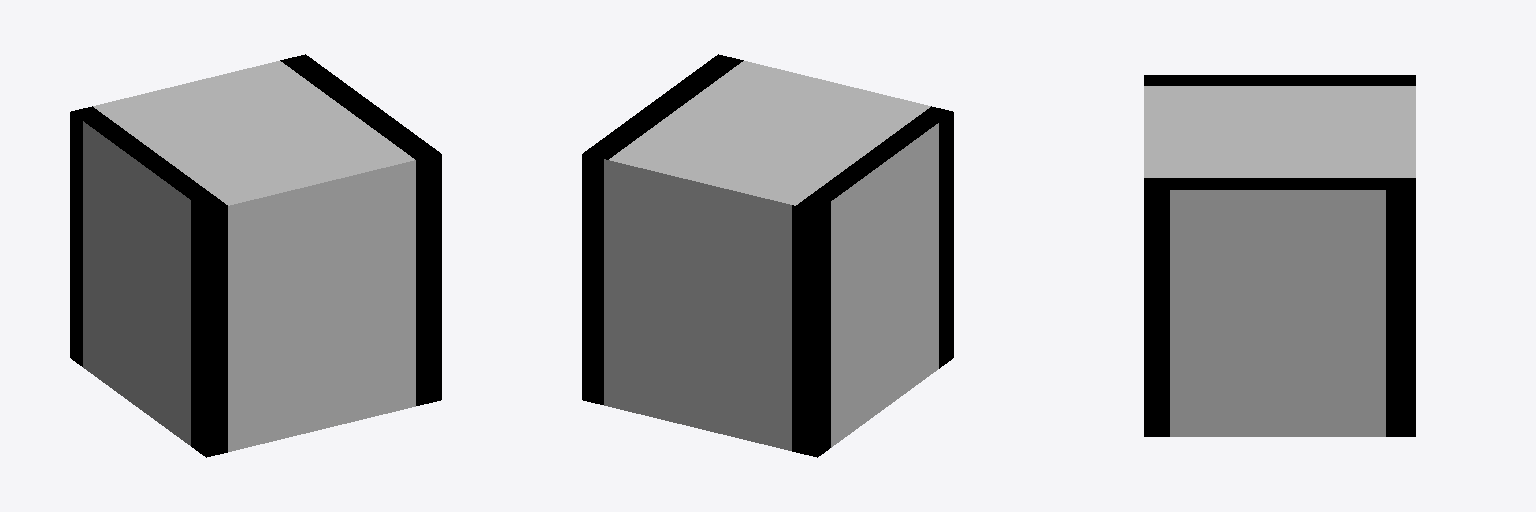
3 renders of one model, left to right at view 1: azimuth 30°, elevation 25°; view 2: azimuth 150°, elevation 25°; view 3: azimuth 270°, elevation 25°, orthographic.
Parts seen in each view (by area): view 1: dishcounter; view 2: dishcounter; view 3: dishcounter.
Boxes of the visible parts, box(x1,y1,x2,y2) form: dishcounter: box(70, 54, 441, 457); dishcounter: box(582, 54, 953, 457); dishcounter: box(1144, 75, 1415, 436).
Size of the model in its own units: 1 by 1 by 1.
Materials: 1 (1 with a texture image).